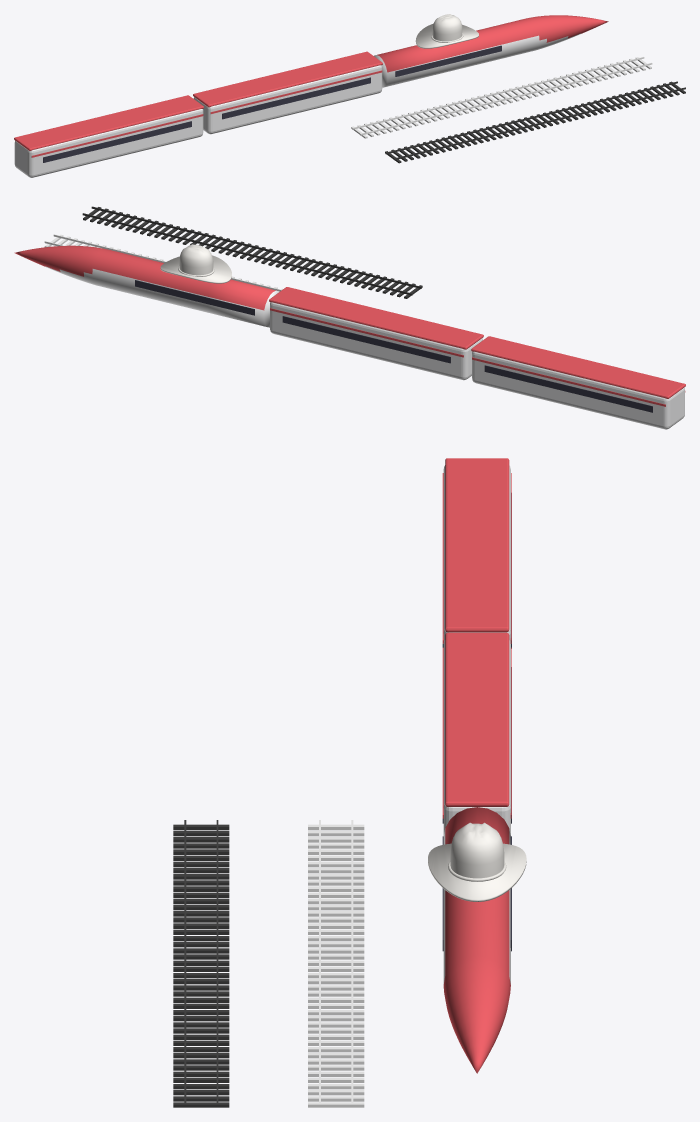
Rendered from HEB_train_and_tracks.glb.
3 renders of one model, top to bottom at view 1: azimuth 30°, elevation 25°; view 2: azimuth 150°, elevation 25°; view 3: azimuth 270°, elevation 25°, orthographic. The views are drawn at different scales.
Visible parts, largest first — view 1: Train_Front, Train_Caboose2_body, Train_Caboose1_body, Rail_Line_Black, Rail_Line_White, Train_Caboose1_red_roof, Train_Caboose2_red_roof, Train_Caboose1_windows_L, Train_Caboose2_windows_L, Hat_Crown, Train_Front_windows_L, Hat_Brim (+2 smaller); view 2: Train_Front, Train_Caboose2_body, Train_Caboose1_body, Rail_Line_Black, Train_Caboose1_red_roof, Train_Caboose2_red_roof, Train_Caboose1_windows_R, Train_Caboose2_windows_R, Hat_Crown, Train_Front_windows_R, Hat_Brim, Rail_Line_White (+2 smaller); view 3: Rail_Line_Black, Rail_Line_White, Train_Caboose2_red_roof, Train_Caboose1_red_roof, Train_Front, Hat_Brim, Hat_Crown, Train_Caboose1_body.
Part boxes in pixels (x1,y1,x2,y2): Train_Front: (374, 15, 608, 87); Train_Caboose2_body: (14, 109, 203, 177); Train_Caboose1_body: (193, 65, 382, 134); Rail_Line_Black: (385, 81, 685, 163); Rail_Line_White: (351, 57, 652, 138); Train_Caboose1_red_roof: (193, 51, 382, 107); Train_Caboose2_red_roof: (14, 95, 203, 150); Train_Caboose1_windows_L: (222, 77, 370, 119); Train_Caboose2_windows_L: (43, 121, 191, 162); Hat_Crown: (432, 14, 462, 41); Train_Front_windows_L: (395, 45, 501, 76); Hat_Brim: (415, 23, 478, 48); Train_Front: (14, 245, 278, 327); Train_Caboose2_body: (472, 351, 684, 429); Train_Caboose1_body: (270, 302, 482, 380); Rail_Line_Black: (82, 206, 422, 298); Train_Caboose1_red_roof: (269, 287, 483, 349); Train_Caboose2_red_roof: (471, 336, 685, 398); Train_Caboose1_windows_R: (282, 316, 450, 363); Train_Caboose2_windows_R: (484, 365, 652, 412); Hat_Crown: (179, 244, 213, 275); Train_Front_windows_R: (135, 280, 254, 315); Hat_Brim: (160, 255, 231, 283); Rail_Line_White: (44, 234, 282, 291); Rail_Line_Black: (173, 820, 229, 1107); Rail_Line_White: (308, 820, 364, 1107); Train_Caboose2_red_roof: (445, 458, 509, 632); Train_Caboose1_red_roof: (445, 632, 509, 806); Train_Front: (443, 807, 510, 1073); Hat_Brim: (428, 843, 526, 901); Hat_Crown: (450, 822, 504, 878); Train_Caboose1_body: (443, 640, 510, 835).
Size of the model in its own units: 60.8 by 5.98 by 15.73.
